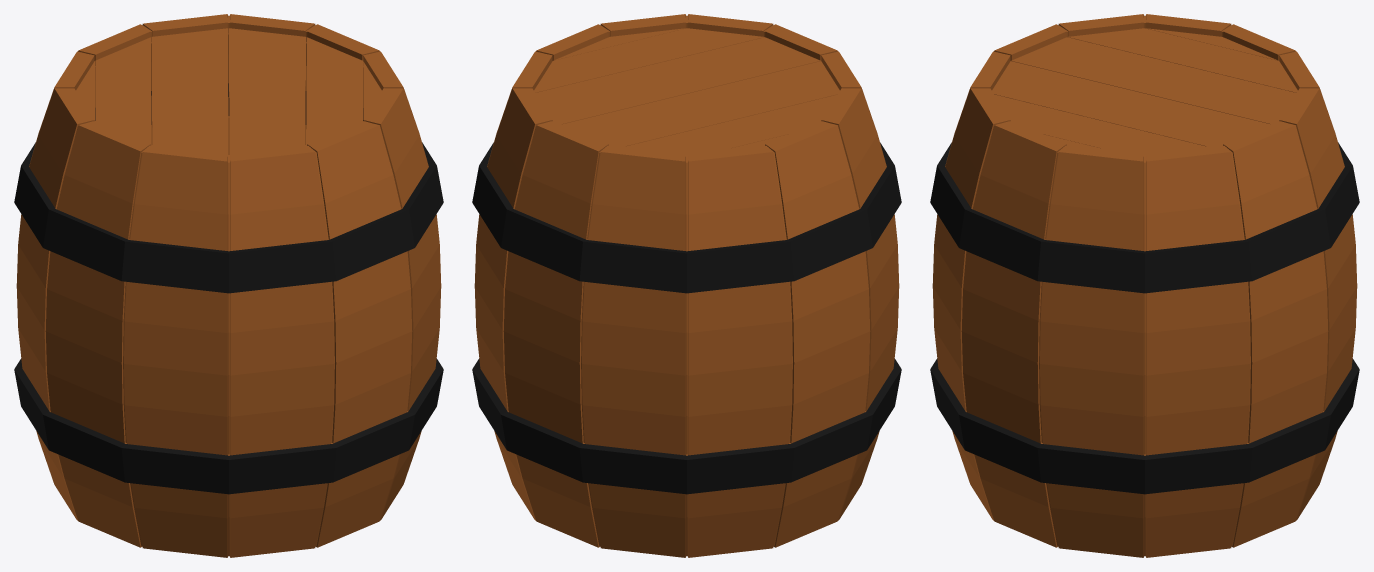
The model's file is barrel .fbx.
3 renders of one model, left to right at view 1: azimuth 30°, elevation 25°; view 2: azimuth 150°, elevation 25°; view 3: azimuth 270°, elevation 25°, orthographic.
Parts seen in each view (by area): view 1: Cylinder.002; view 2: Cylinder.002; view 3: Cylinder.002.
Part boxes in pixels (<box>): Cylinder.002: <box>14,14,443,557</box>; Cylinder.002: <box>472,14,901,557</box>; Cylinder.002: <box>930,14,1359,557</box>.
Bounding box in the file's own units: 246 × 250 × 246.
